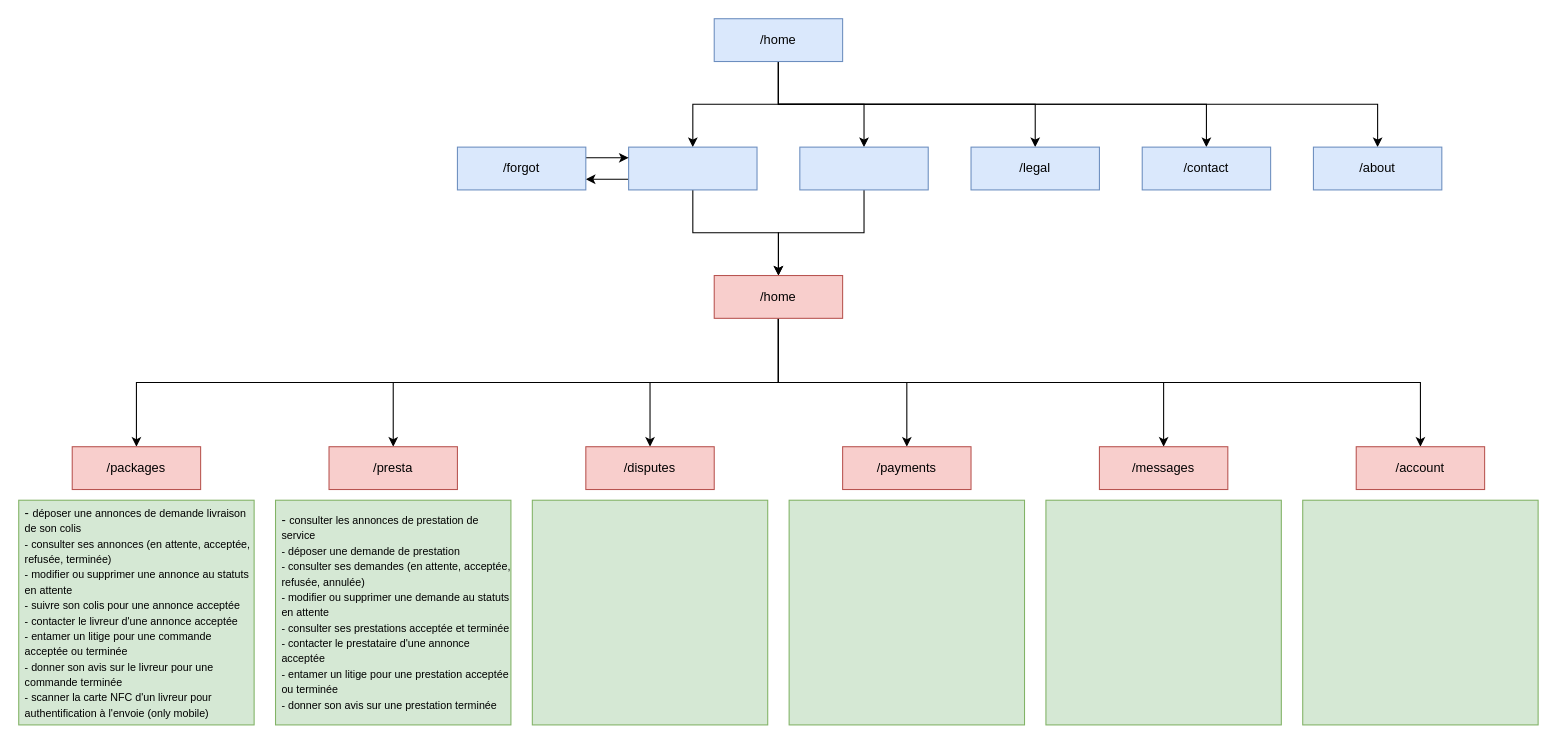
Some shapes in this 1557 by 744 pixel diagram are drawn without their labels. Here are the shapes that lost their labels. From the top down, the centre of each, then its label:
[692,168]: /login
[863,168]: /signin
